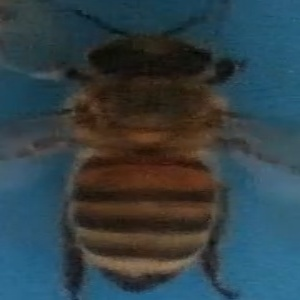bee: (17, 10, 285, 300)
